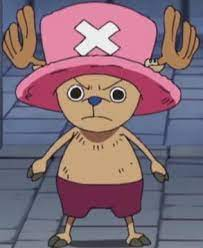chopper: (2, 2, 203, 145)
